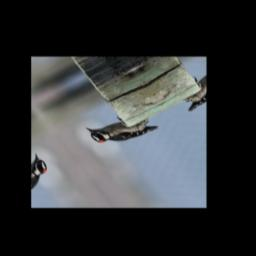Woodpecker: (84, 101, 159, 156)
